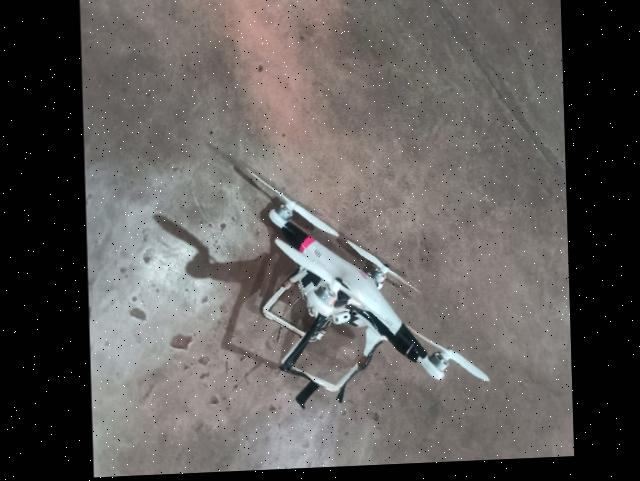drone: (207, 145, 506, 442)
